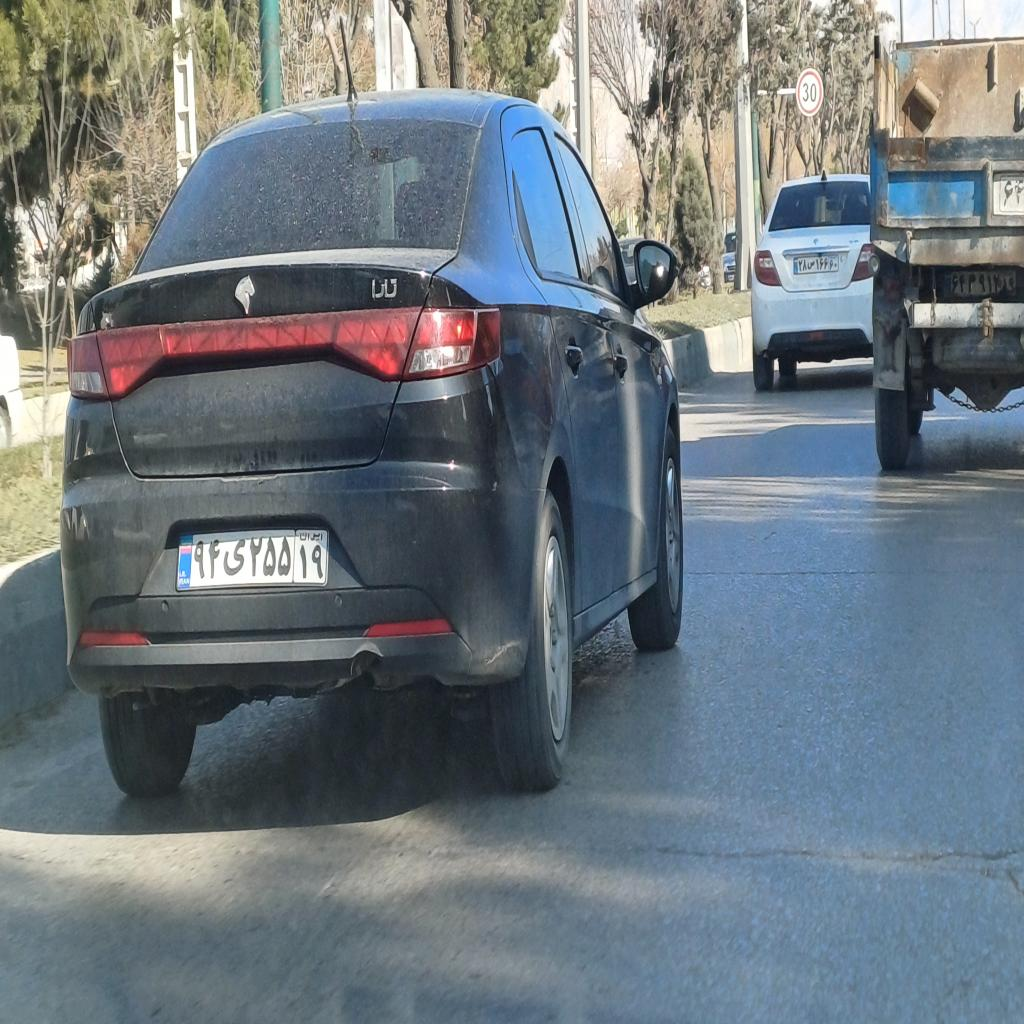Plates: (178, 522, 329, 590), (791, 253, 840, 274)
